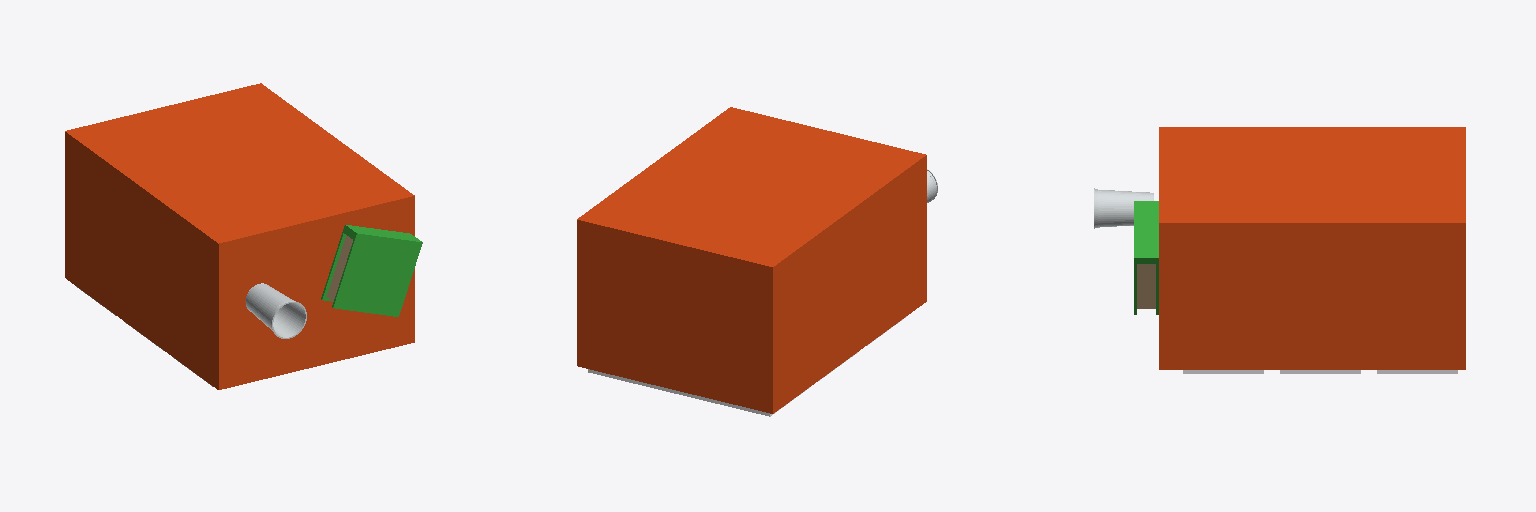
File: tinker.obj
The picture shows the model from 3 angles: view 1: azimuth 30°, elevation 25°; view 2: azimuth 150°, elevation 25°; view 3: azimuth 270°, elevation 25°; orthographic projection.
Parts seen in each view (by area): view 1: obj_0; view 2: obj_0; view 3: obj_0.
Boxes of the visible parts, <box> form: obj_0: <box>65,83,422,389</box>; obj_0: <box>577,107,937,416</box>; obj_0: <box>1094,127,1465,373</box>.
Size of the model in its own units: 28 by 22 by 46.